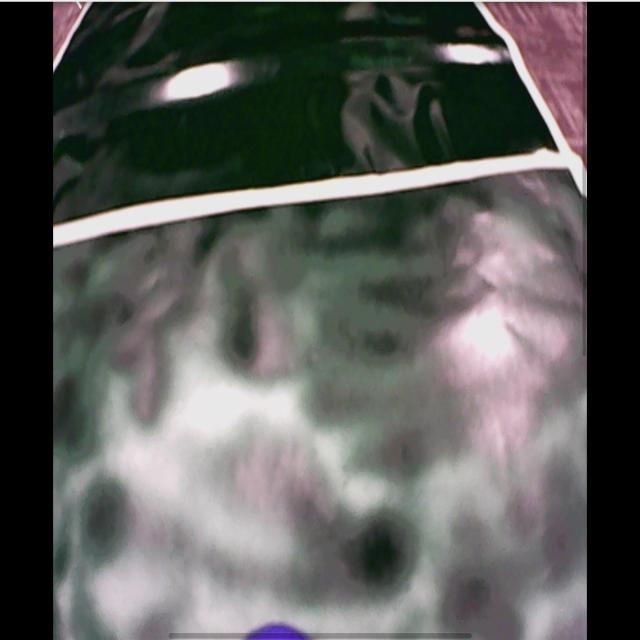ball: (247, 622, 306, 640)
